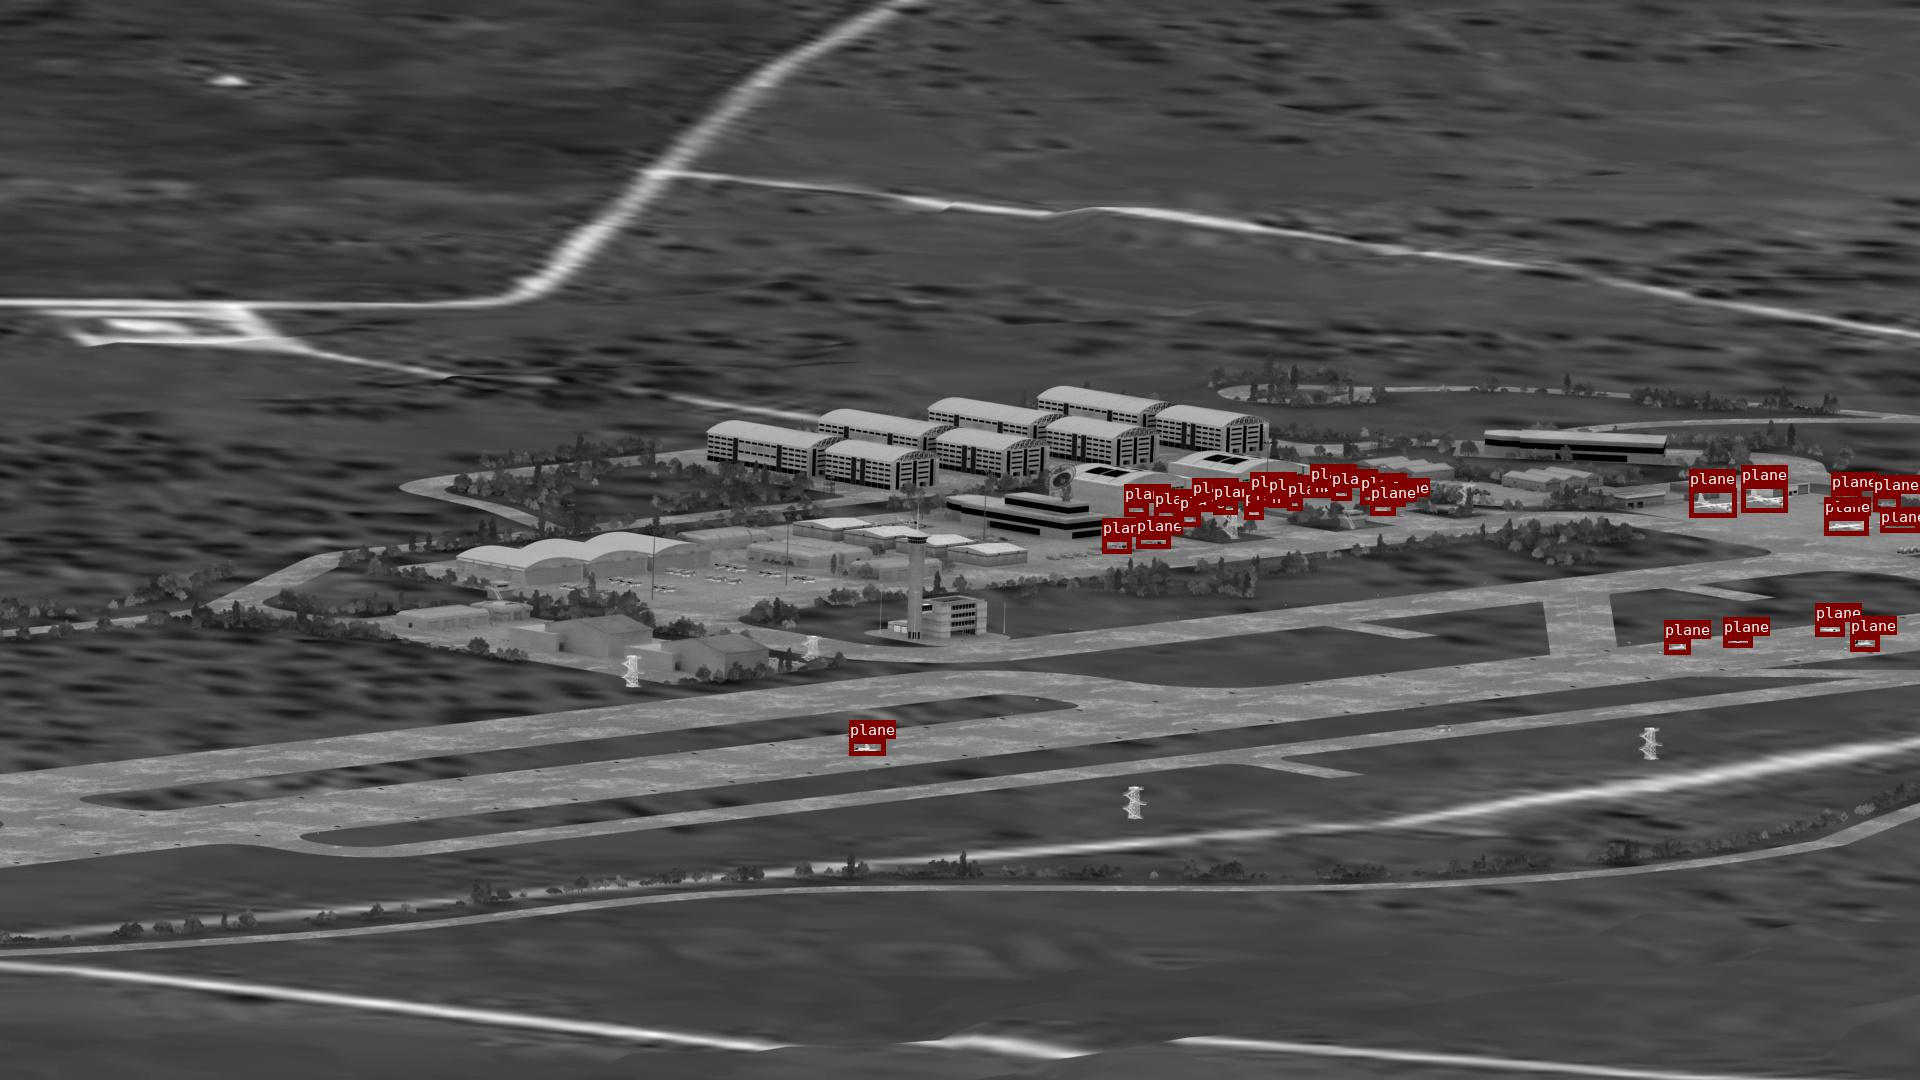plane: (1689, 488, 1735, 517), (1741, 484, 1787, 512), (1880, 506, 1919, 531), (1824, 516, 1869, 535), (849, 738, 885, 756), (1873, 495, 1900, 512), (1850, 636, 1879, 651), (1102, 537, 1131, 553), (1832, 491, 1861, 506), (1135, 535, 1170, 549), (1664, 640, 1691, 654), (1815, 622, 1844, 636), (1724, 636, 1753, 647), (1124, 502, 1149, 516), (1370, 502, 1395, 516), (1154, 508, 1178, 521), (1213, 501, 1237, 514), (1179, 512, 1200, 526), (1309, 483, 1332, 496), (1244, 506, 1263, 520), (1331, 488, 1352, 500), (1360, 492, 1381, 504), (1250, 491, 1269, 504), (1192, 497, 1211, 509), (1269, 495, 1286, 506), (1383, 497, 1404, 506), (1287, 498, 1302, 510)
